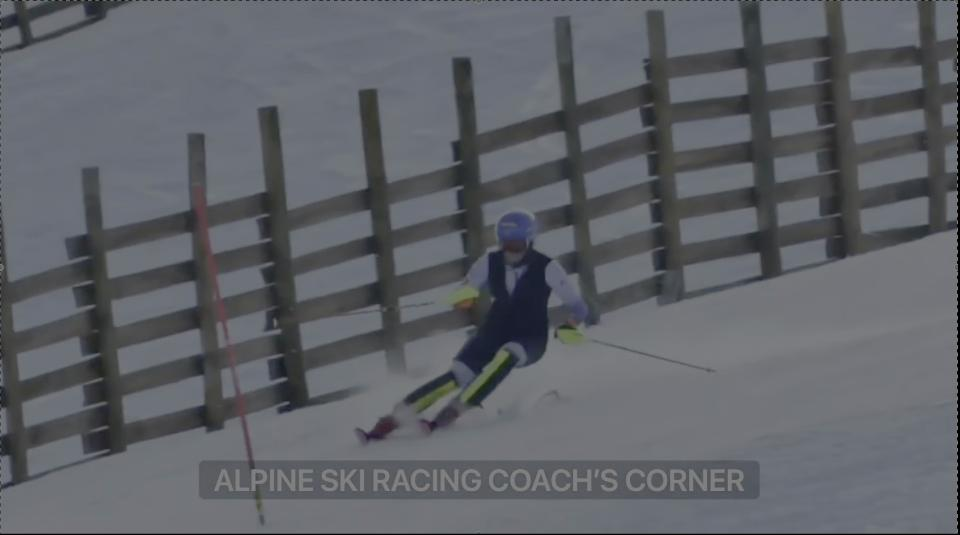gate: (163, 188, 284, 535)
